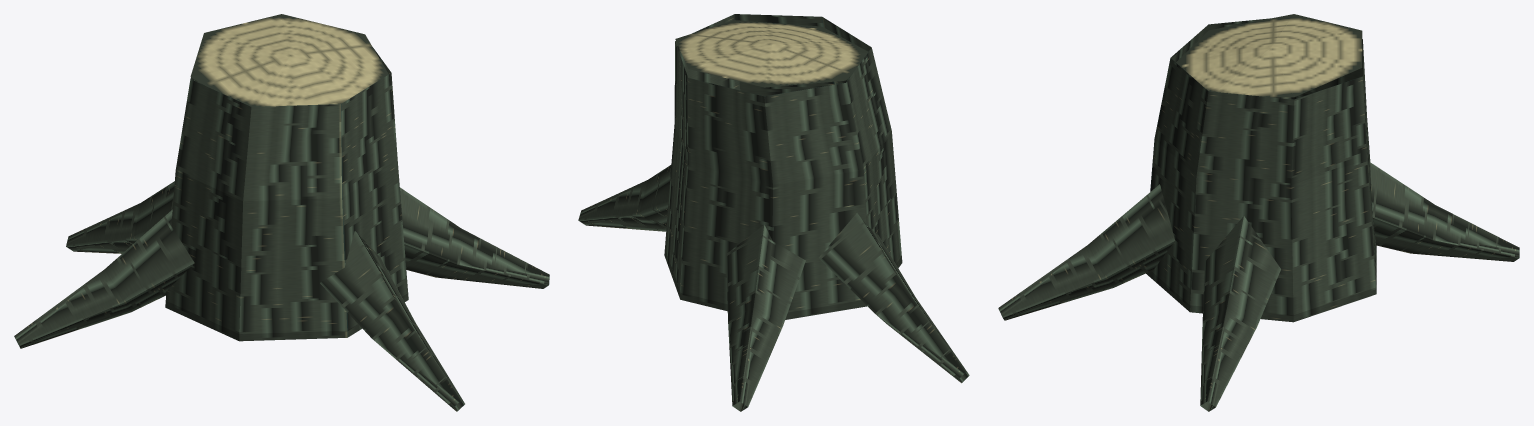
The model's file is SM_Forest_Stump_A_200x200x90.fbx.
3 views of the same model, side by side, from view 1: azimuth 30°, elevation 25°; view 2: azimuth 150°, elevation 25°; view 3: azimuth 270°, elevation 25° (orthographic). The views are drawn at different scales.
Visible parts, largest first — view 1: SM_Forest_Stump_A_200x200x90.010; view 2: SM_Forest_Stump_A_200x200x90.010; view 3: SM_Forest_Stump_A_200x200x90.010.
Boxes of the visible parts, x1,y1,x2,y2 form: SM_Forest_Stump_A_200x200x90.010: (14,14,549,411); SM_Forest_Stump_A_200x200x90.010: (578,14,969,411); SM_Forest_Stump_A_200x200x90.010: (998,14,1519,411).
Size of the model in its own units: 1.97 by 1.07 by 1.96.
